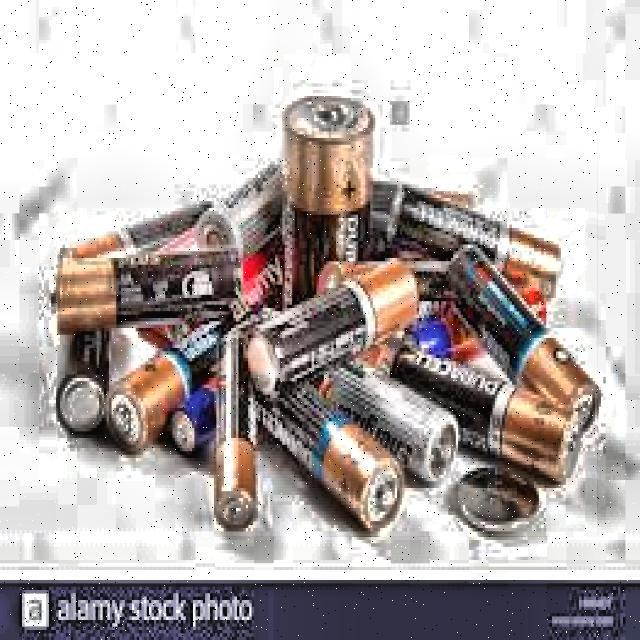B3: (41, 90, 615, 548)
